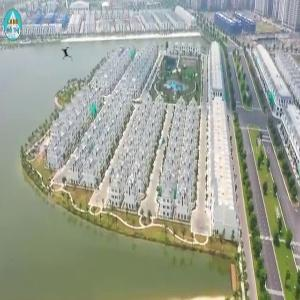drone: (55, 41, 82, 68)
